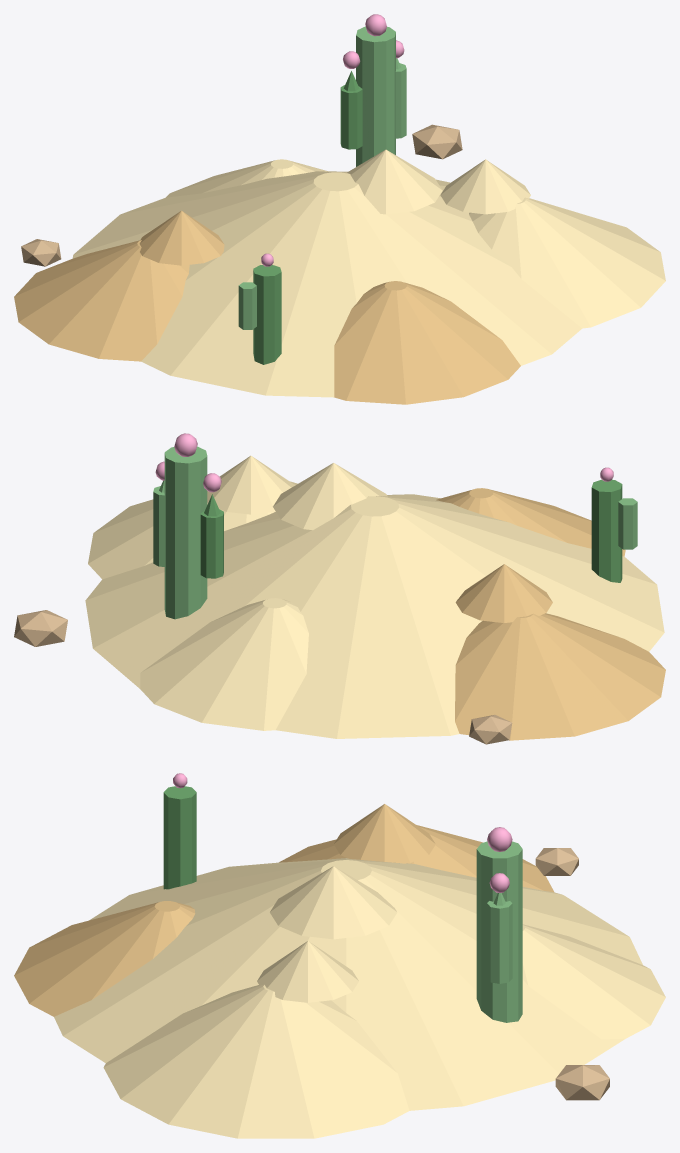
Rendered from desert_dune.glb.
The picture shows the model from 3 angles, top to bottom: view 1: azimuth 30°, elevation 25°; view 2: azimuth 150°, elevation 25°; view 3: azimuth 270°, elevation 25°; orthographic projection. The views are drawn at different scales.
Visible parts, largest first — view 1: dune_main, dune_back, dune_r, dune_l, cactus_trunk, dune_peak1, dune_peak2, dune_peak3, cactus2, dune_front, cactus_arm_l, rock1 (+3 smaller); view 2: dune_main, dune_l, dune_front, cactus_trunk, dune_r, dune_back, dune_peak1, dune_peak2, dune_peak3, cactus2, rock1, cactus_arm_l (+3 smaller); view 3: dune_main, dune_r, dune_back, dune_front, dune_peak1, cactus_trunk, dune_peak3, dune_peak2, dune_l, cactus2, cactus_arm_r, rock1 (+1 smaller).
Boxes of the visible parts, bbox=[...] form: dune_main: bbox=[72, 171, 581, 397]; dune_back: bbox=[334, 281, 520, 404]; dune_r: bbox=[469, 197, 665, 328]; dune_l: bbox=[14, 240, 189, 361]; cactus_trunk: bbox=[356, 26, 395, 166]; dune_peak1: bbox=[347, 149, 442, 214]; dune_peak2: bbox=[139, 210, 224, 265]; dune_peak3: bbox=[440, 159, 530, 214]; cactus2: bbox=[253, 265, 281, 364]; dune_front: bbox=[166, 159, 327, 197]; cactus_arm_l: bbox=[340, 85, 362, 149]; rock1: bbox=[412, 124, 462, 159]; dune_main: bbox=[85, 494, 664, 738]; dune_l: bbox=[455, 613, 665, 740]; dune_front: bbox=[140, 598, 308, 730]; cactus_trunk: bbox=[164, 446, 207, 619]; dune_r: bbox=[88, 481, 297, 579]; dune_back: bbox=[436, 488, 625, 556]; dune_peak1: bbox=[273, 463, 387, 530]; dune_peak2: bbox=[455, 564, 552, 622]; dune_peak3: bbox=[207, 455, 294, 514]; cactus2: bbox=[591, 479, 622, 582]; rock1: bbox=[14, 610, 67, 646]; cactus_arm_l: bbox=[200, 509, 223, 578]; dune_main: bbox=[54, 858, 642, 1110]; dune_r: bbox=[103, 984, 409, 1138]; dune_back: bbox=[14, 901, 195, 1016]; dune_front: bbox=[522, 924, 665, 1039]; dune_peak1: bbox=[270, 866, 397, 939]; cactus_trunk: bbox=[476, 841, 522, 1022]; dune_peak3: bbox=[257, 941, 358, 1002]; dune_peak2: bbox=[333, 804, 435, 863]; dune_l: bbox=[279, 825, 553, 892]; cactus2: bbox=[163, 786, 196, 889]; cactus_arm_r: bbox=[487, 901, 512, 983]; rock1: bbox=[555, 1065, 609, 1100].
Bounding box in the file's own units: 5.64 × 1.88 × 5.1.
